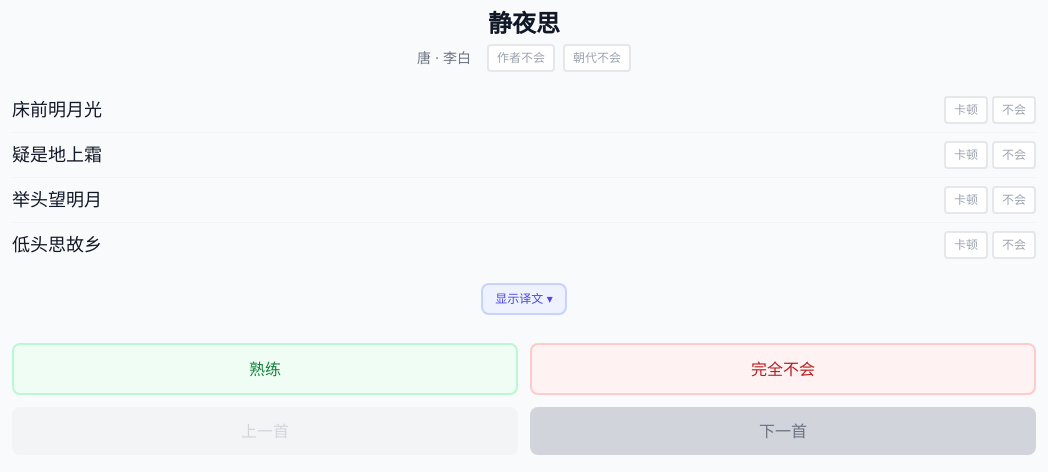
Scenario: RecitationCard › "下一首" button › is enabled when author is marked wrong
What coordinates should you click on to do the following:
click the button with test id "btn-author-forgot"
I would click on:
 (521, 58)
Its box is [487,44,555,72].
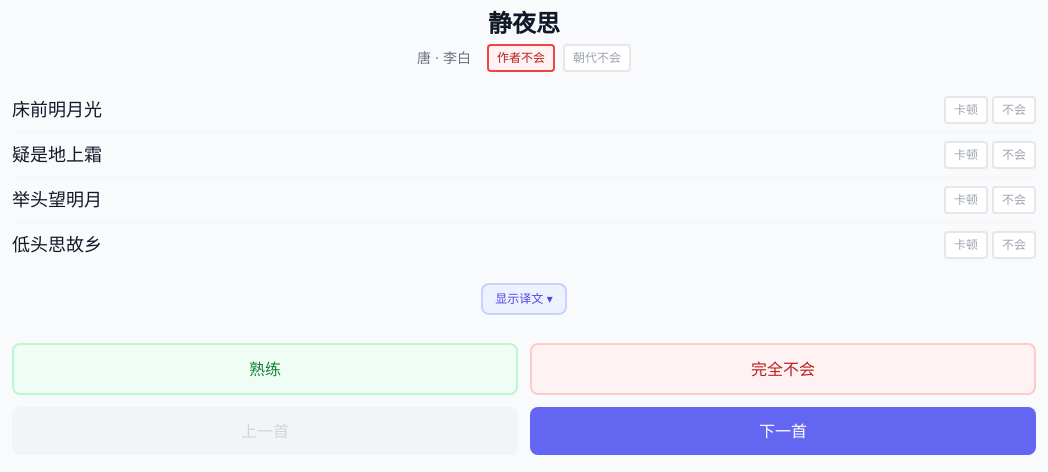
Expected: the button "下一首" is enabled, [530,407,1036,455]
